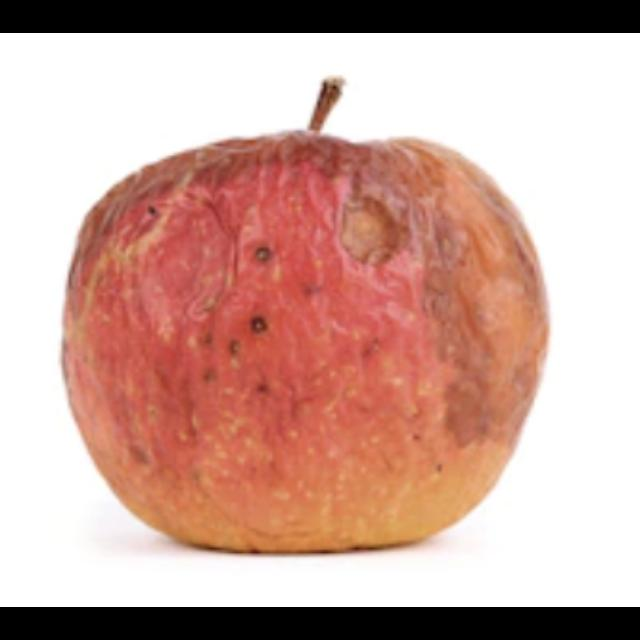Apel Tidak Segar: (15, 55, 589, 579)
